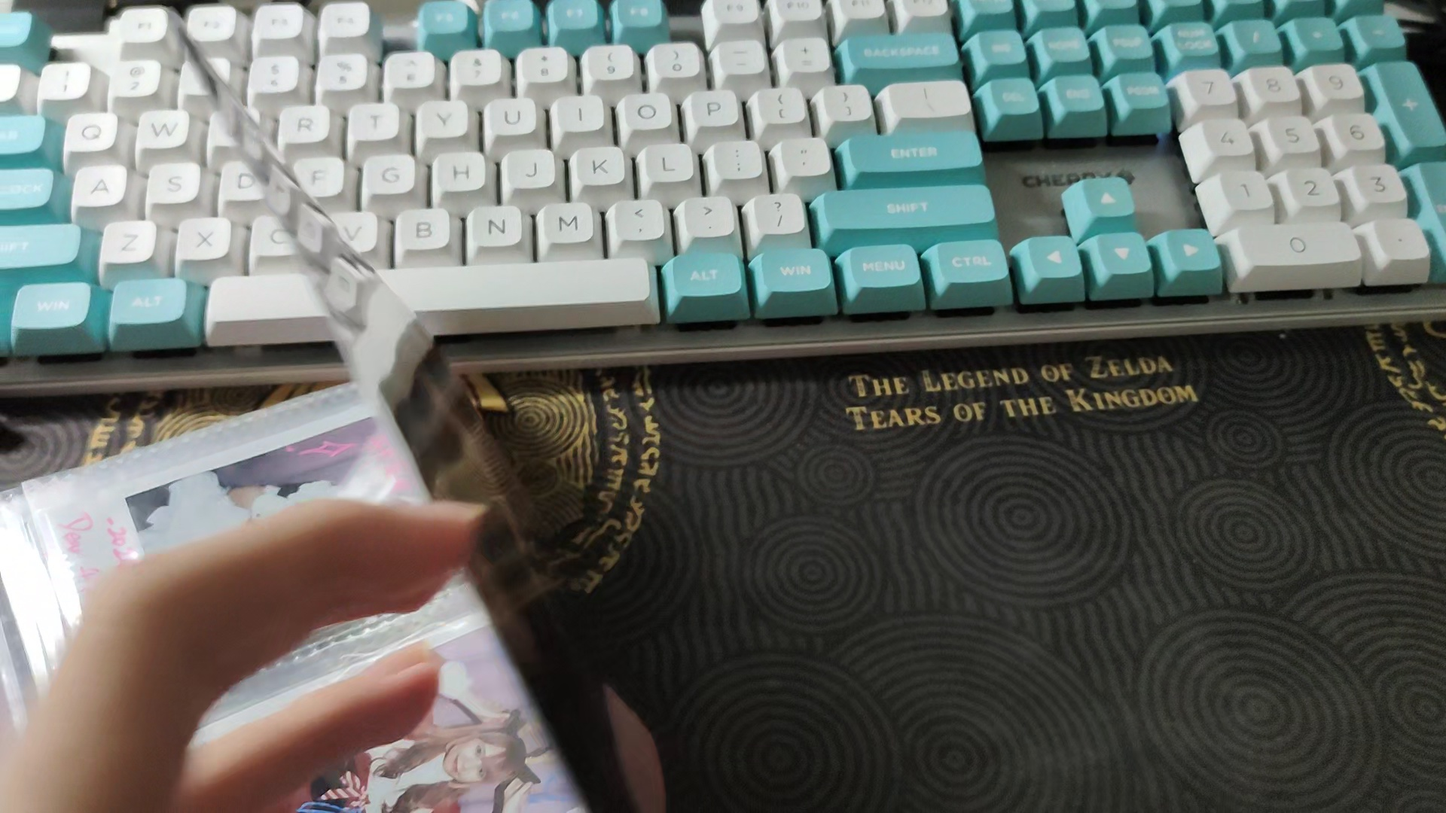Photo_book: (0, 14, 636, 813)
